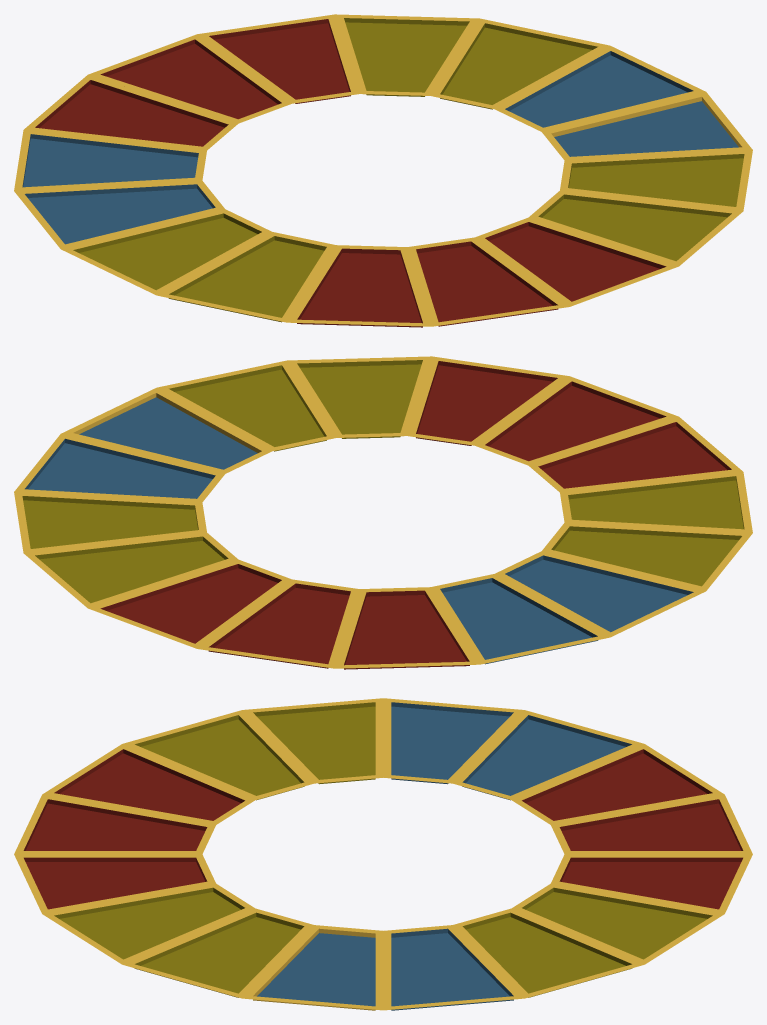
Rendered from RouletteSectors2.fbx.
The picture shows the model from 3 angles, top to bottom: view 1: azimuth 30°, elevation 25°; view 2: azimuth 150°, elevation 25°; view 3: azimuth 270°, elevation 25°; orthographic projection.
Visible parts, largest first — view 1: Circle.013, Circle.014, Circle.012, Circle.005, Circle.006, Circle.004, Attack1, Circle.009, Sheild1, HP1, Circle.010, Circle.008 (+4 smaller); view 2: Circle.008, Circle.007, Circle.009, HP1, Circle.015, Attack1, Circle.004, Circle.012, Money1, Circle.005, Circle.011, Circle.013 (+4 smaller); view 3: Money1, Sheild1, Circle.007, Circle.014, Circle.010, Circle.011, Attack1, Circle.004, Circle.006, Circle.009, Circle.012, Circle.015 (+4 smaller).
Part boxes in pixels (x1=…): Circle.013: x1=287, y1=245, x2=431, y2=327; Circle.014: x1=407, y1=237, x2=569, y2=326; Circle.012: x1=157, y1=232, x2=335, y2=322; Circle.005: x1=335, y1=14, x2=479, y2=96; Circle.006: x1=197, y1=14, x2=359, y2=103; Circle.004: x1=431, y1=18, x2=609, y2=109; Attack1: x1=560, y1=150, x2=752, y2=211; Circle.009: x1=14, y1=130, x2=206, y2=190; Sheild1: x1=542, y1=92, x2=752, y2=160; HP1: x1=528, y1=190, x2=742, y2=266; Circle.010: x1=14, y1=180, x2=224, y2=248; Circle.008: x1=24, y1=75, x2=238, y2=150; Circle.008: x1=335, y1=587, x2=479, y2=669; Circle.007: x1=197, y1=579, x2=359, y2=668; Circle.009: x1=431, y1=574, x2=609, y2=664; HP1: x1=287, y1=356, x2=431, y2=438; Circle.015: x1=407, y1=356, x2=569, y2=445; Attack1: x1=157, y1=360, x2=335, y2=451; Circle.004: x1=14, y1=492, x2=206, y2=553; Circle.012: x1=560, y1=472, x2=752, y2=532; Money1: x1=14, y1=434, x2=224, y2=502; Circle.005: x1=24, y1=532, x2=238, y2=608; Circle.011: x1=542, y1=522, x2=752, y2=590; Circle.013: x1=528, y1=417, x2=742, y2=492; Money1: x1=383, y1=925, x2=524, y2=1010; Sheild1: x1=242, y1=925, x2=383, y2=1010; Circle.007: x1=551, y1=794, x2=752, y2=854; Circle.014: x1=14, y1=794, x2=215, y2=854; Circle.010: x1=383, y1=698, x2=524, y2=784; Circle.011: x1=242, y1=698, x2=383, y2=784; Attack1: x1=122, y1=908, x2=313, y2=998; Circle.004: x1=453, y1=908, x2=644, y2=998; Circle.006: x1=551, y1=854, x2=752, y2=913; Circle.009: x1=453, y1=710, x2=643, y2=800; Circle.012: x1=123, y1=710, x2=313, y2=800; Circle.015: x1=14, y1=854, x2=215, y2=913.
Bounding box in the file's own units: 400 × 2.58 × 400.
